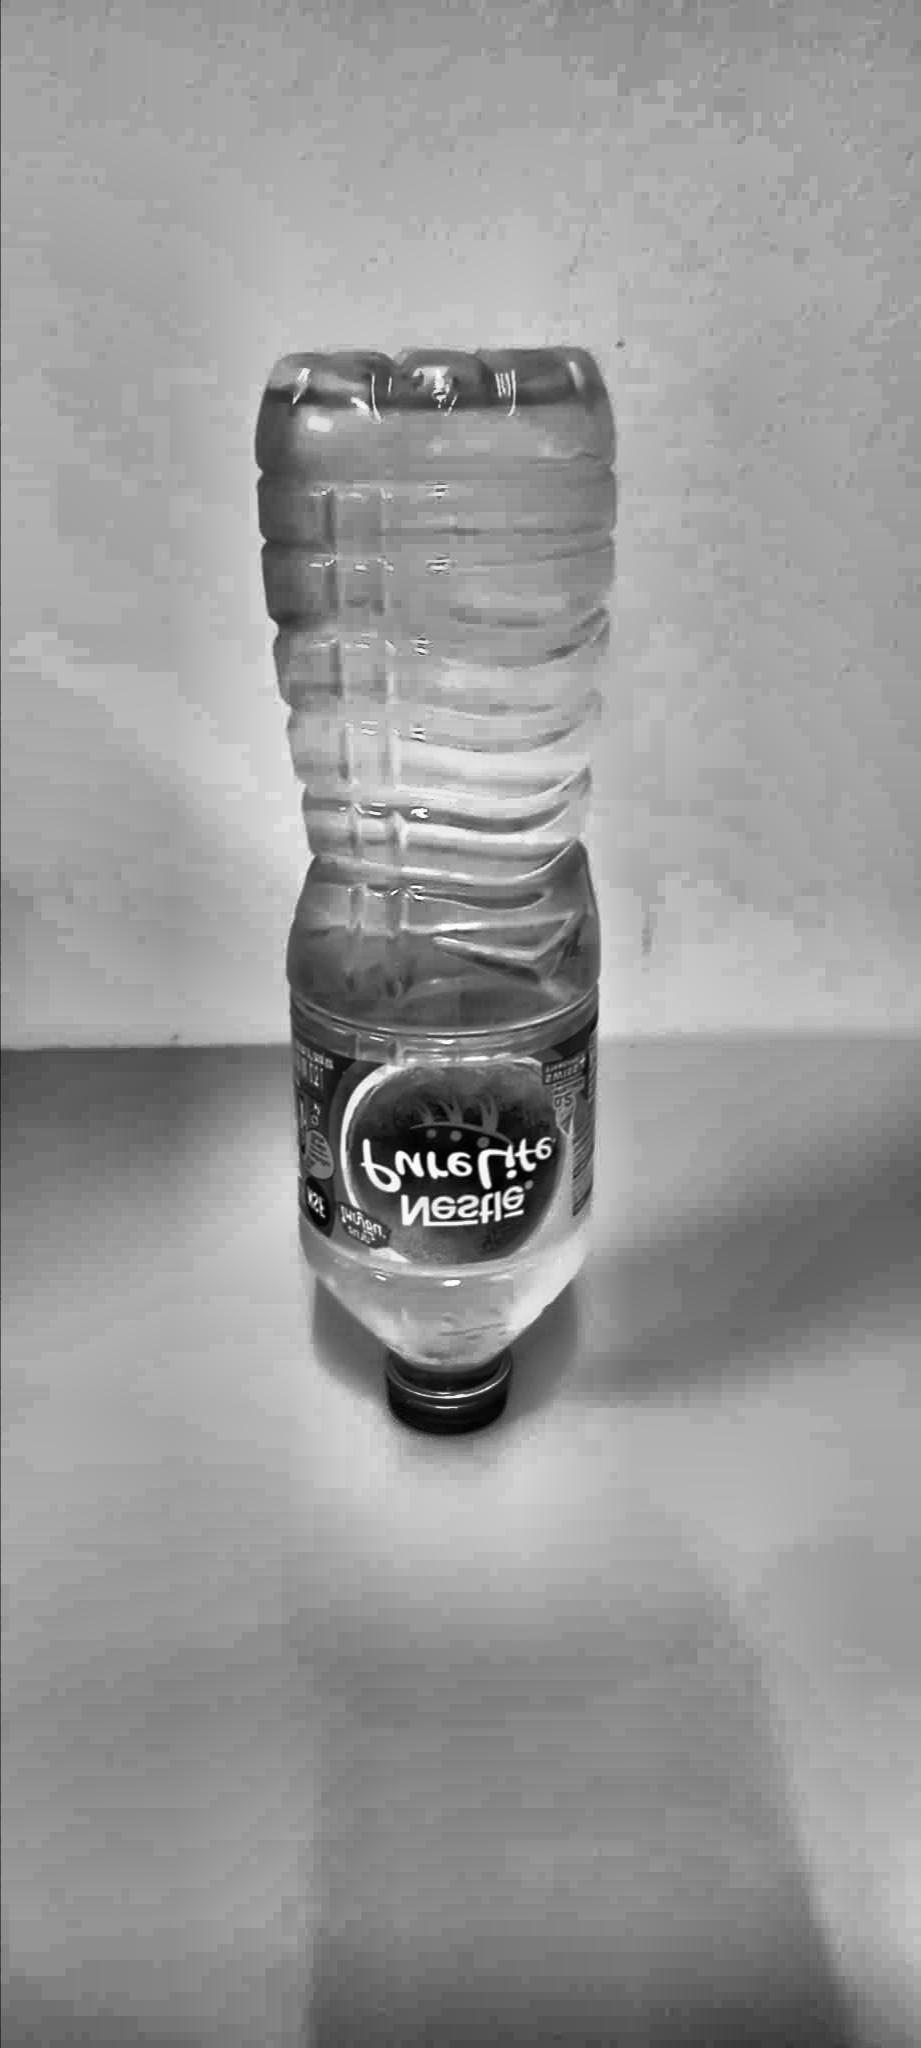waterbottle: (122, 176, 785, 1658)
